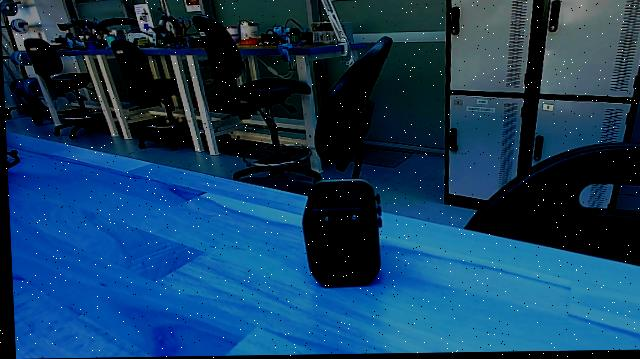adapter: (290, 176, 384, 293)
